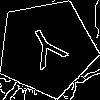Y: (22, 23, 74, 79)
